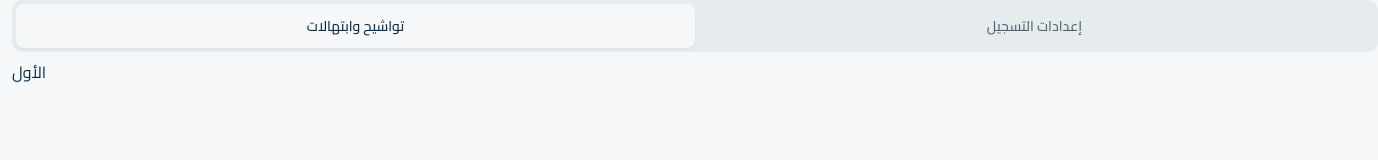
Test case: allows multiline touch-sized tabs without changing selection behavior
Press the mouse on the tab "إعدادات التسجيل" at (1034, 26), box [695, 4, 1374, 48]
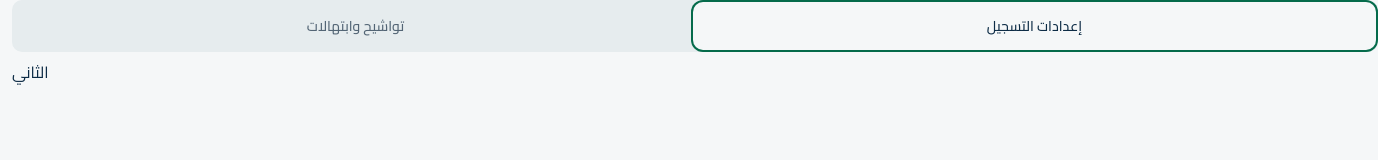
Expected: the panel reads "الثاني", [12, 57, 48, 87]
